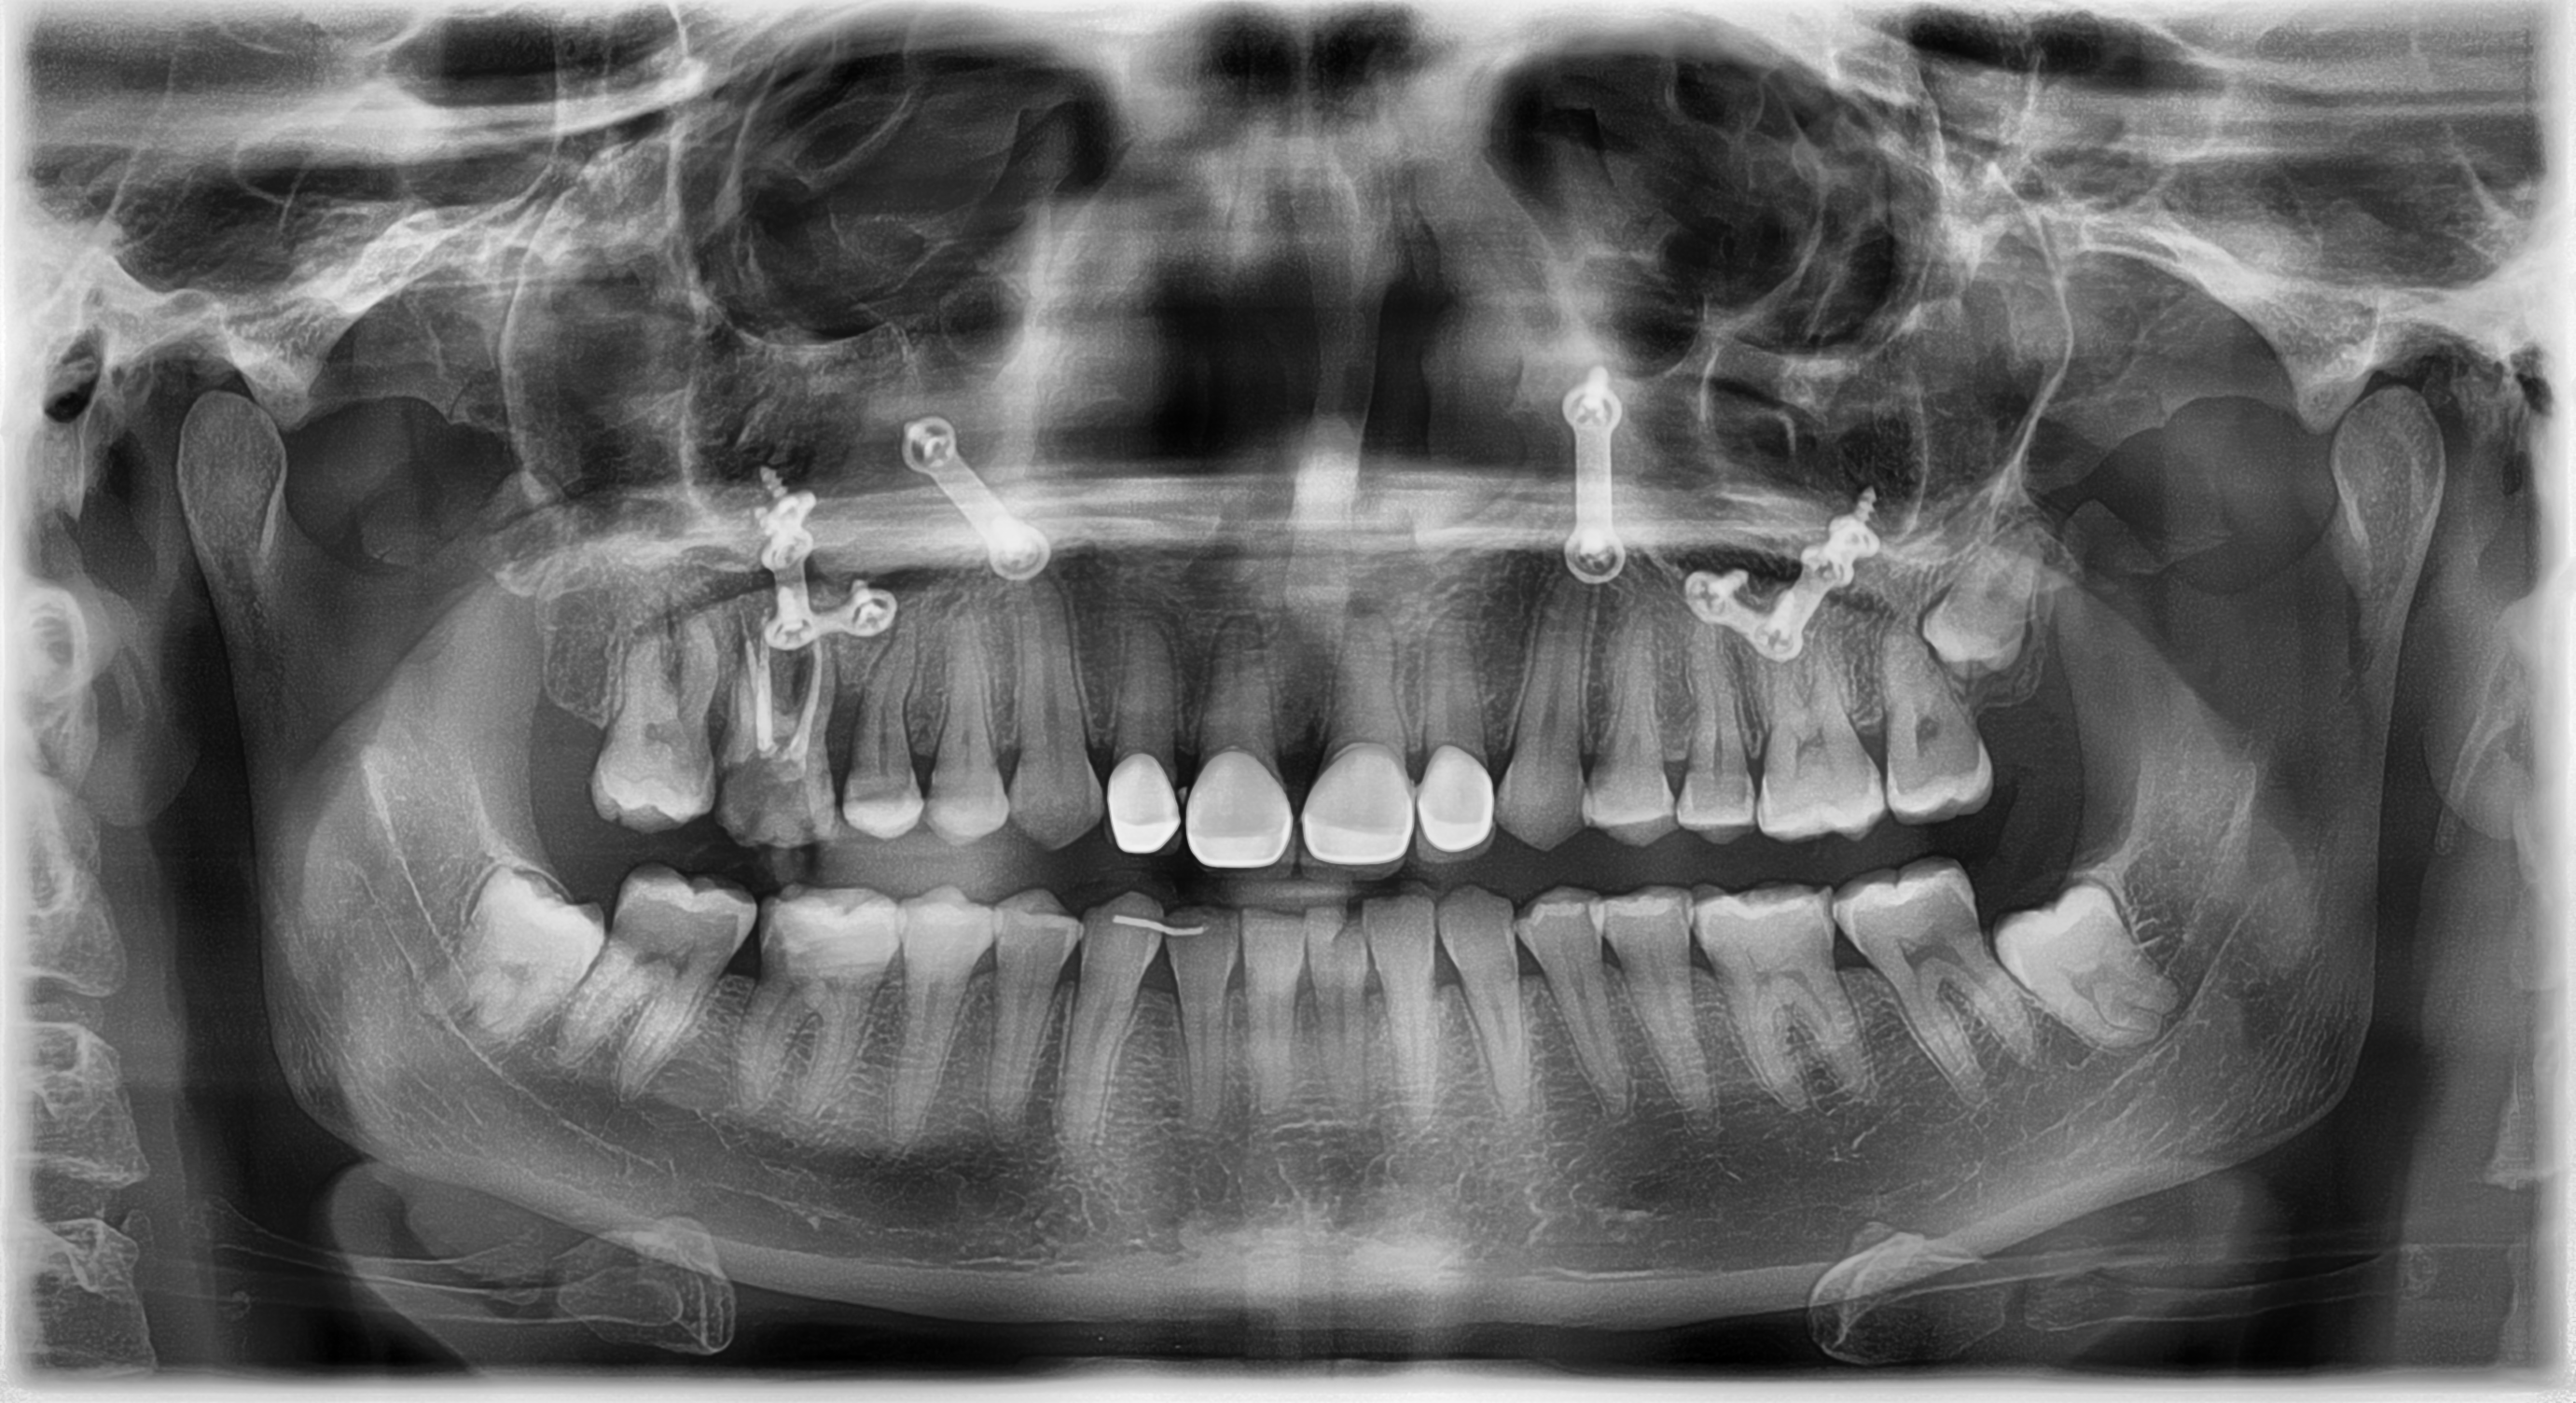cordal: (1975, 852, 2207, 1078), (409, 843, 641, 1070), (1878, 508, 2110, 734)
tratamiento_conducto: (689, 596, 872, 873)
